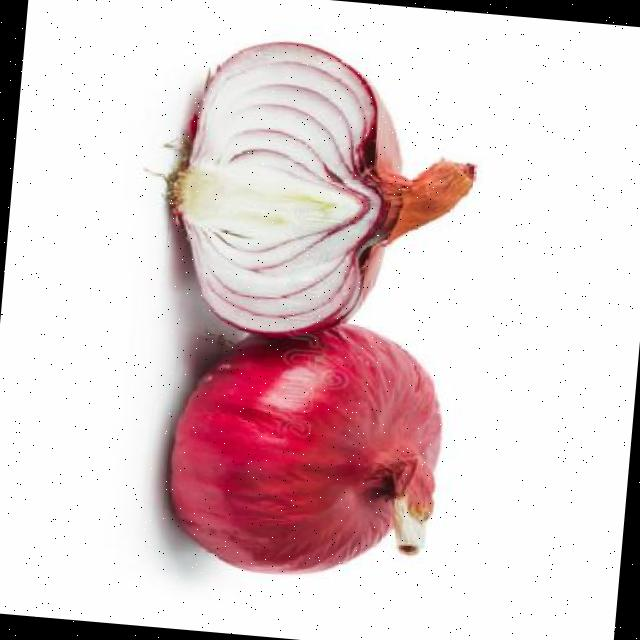Onion: (169, 326, 439, 574)
